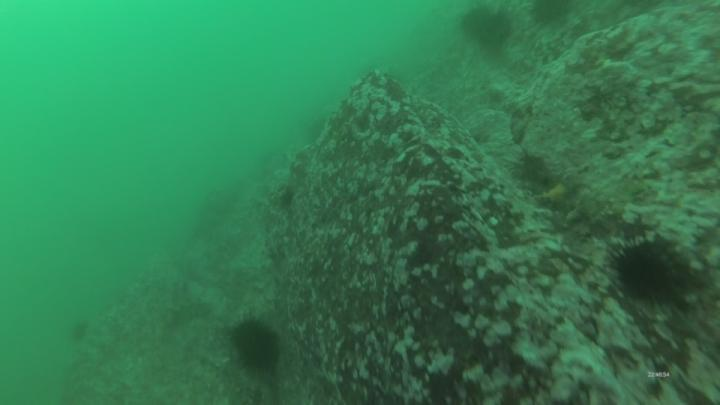echinus: (603, 231, 682, 308), (222, 316, 291, 384), (459, 4, 513, 48), (529, 1, 577, 26), (66, 321, 94, 348)
